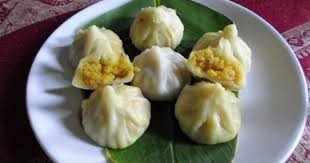modak: (177, 78, 249, 155), (77, 86, 161, 143), (131, 5, 205, 55), (136, 45, 194, 102)
